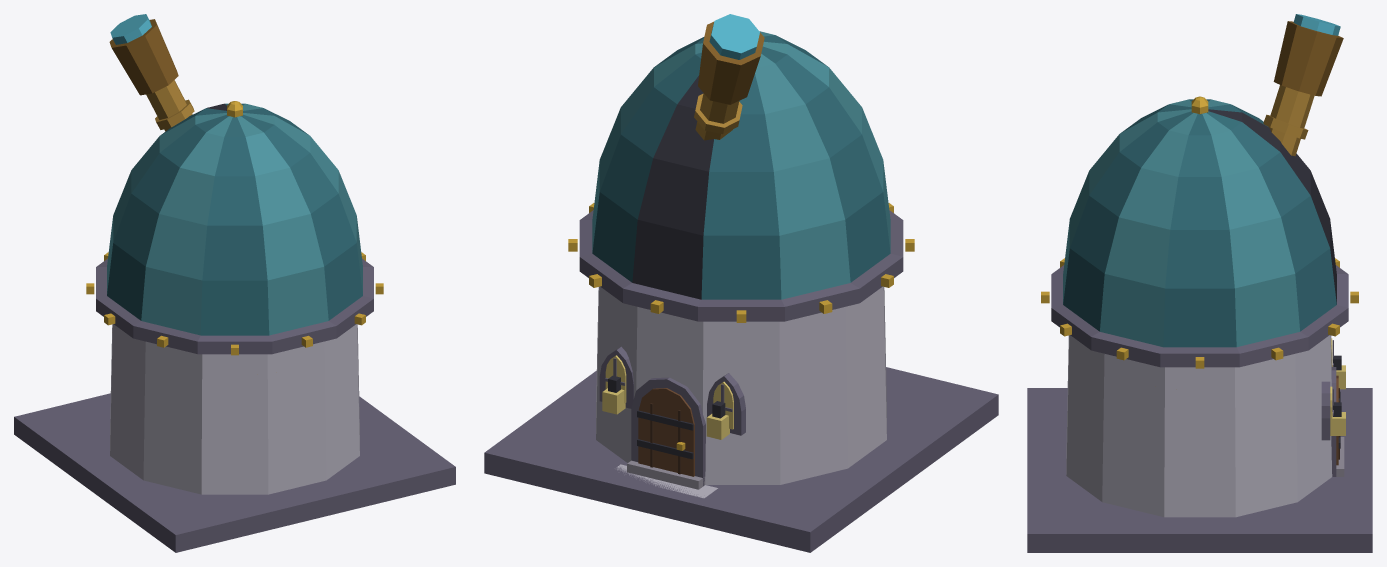
File: Decor_WizardTower_Observatory.fbx
The picture shows the model from 3 angles, left to right: view 1: azimuth 30°, elevation 25°; view 2: azimuth 150°, elevation 25°; view 3: azimuth 270°, elevation 25°; orthographic projection. The views are drawn at different scales.
Visible parts, largest first — view 1: Observatory_Body; view 2: Observatory_Body; view 3: Observatory_Body.
Boxes of the visible parts, x1,y1,x2,y2 form: Observatory_Body: (14, 14, 455, 552); Observatory_Body: (484, 14, 998, 552); Observatory_Body: (1027, 14, 1372, 552).
Size of the model in its own units: 20 by 28.28 by 20.
